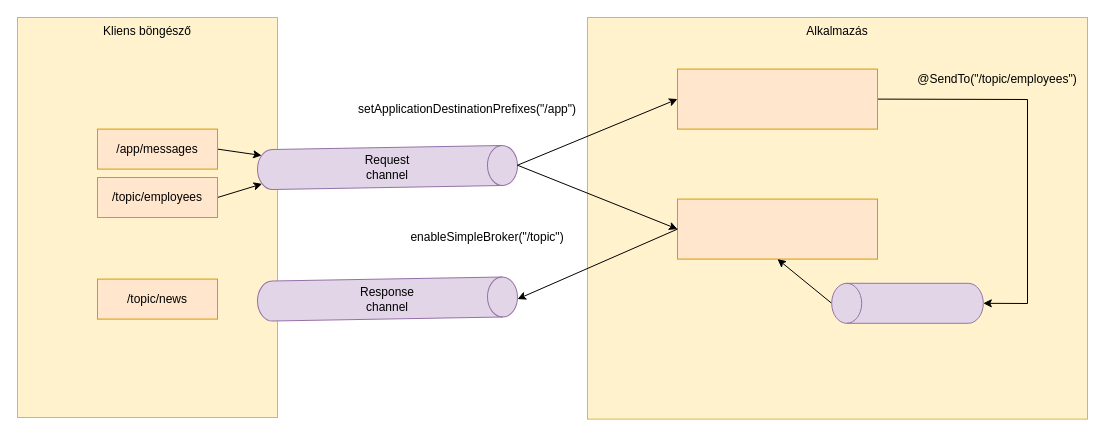
Some shapes in this 1105 by 437 pixel diagram are drawn without their labels. Here are the shapes that lost their labels. From the top down, the centre of each, then its label:
(777,98): @MessageMapping("/messages")
(777,228): Broker
(907,302): Broker channel
